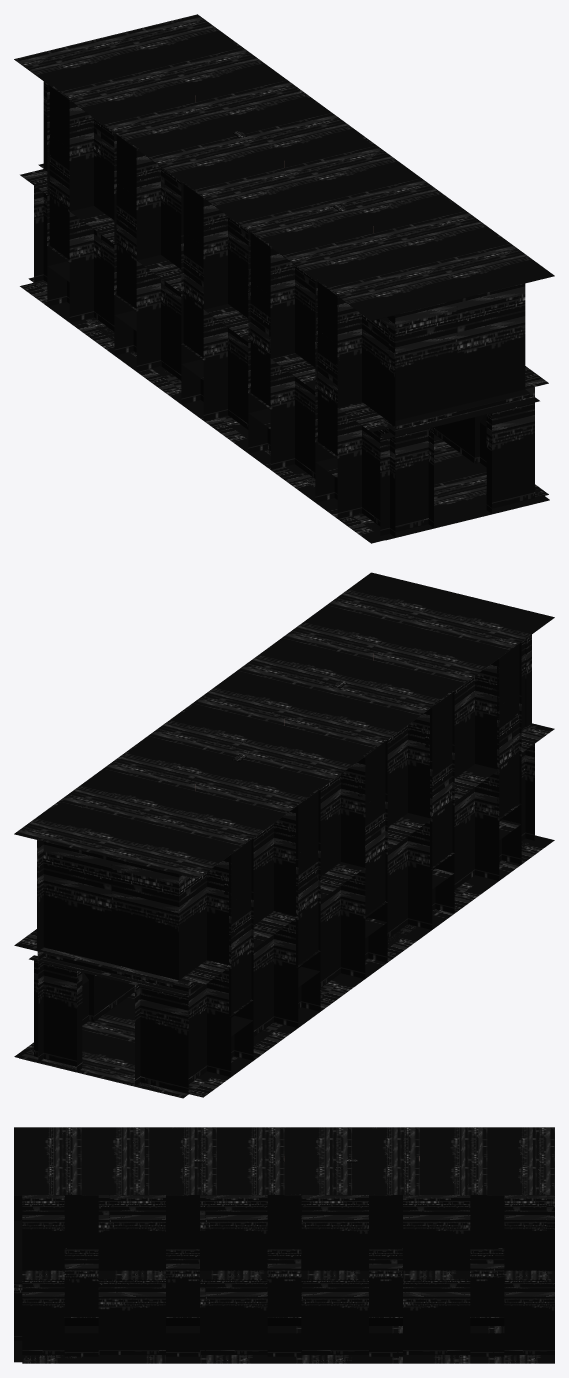
File: room2_opt.obj
3 views of the same model, one above another, from view 1: azimuth 30°, elevation 25°; view 2: azimuth 150°, elevation 25°; view 3: azimuth 270°, elevation 25° (orthographic). The views are drawn at different scales.
Size of the model in its own units: 608 by 728 by 2048.
